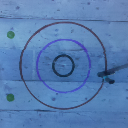Axe Tip: (102, 70, 114, 74)
